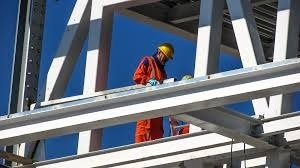helmet: (156, 41, 177, 61)
person with partial safety: (134, 38, 178, 76)
